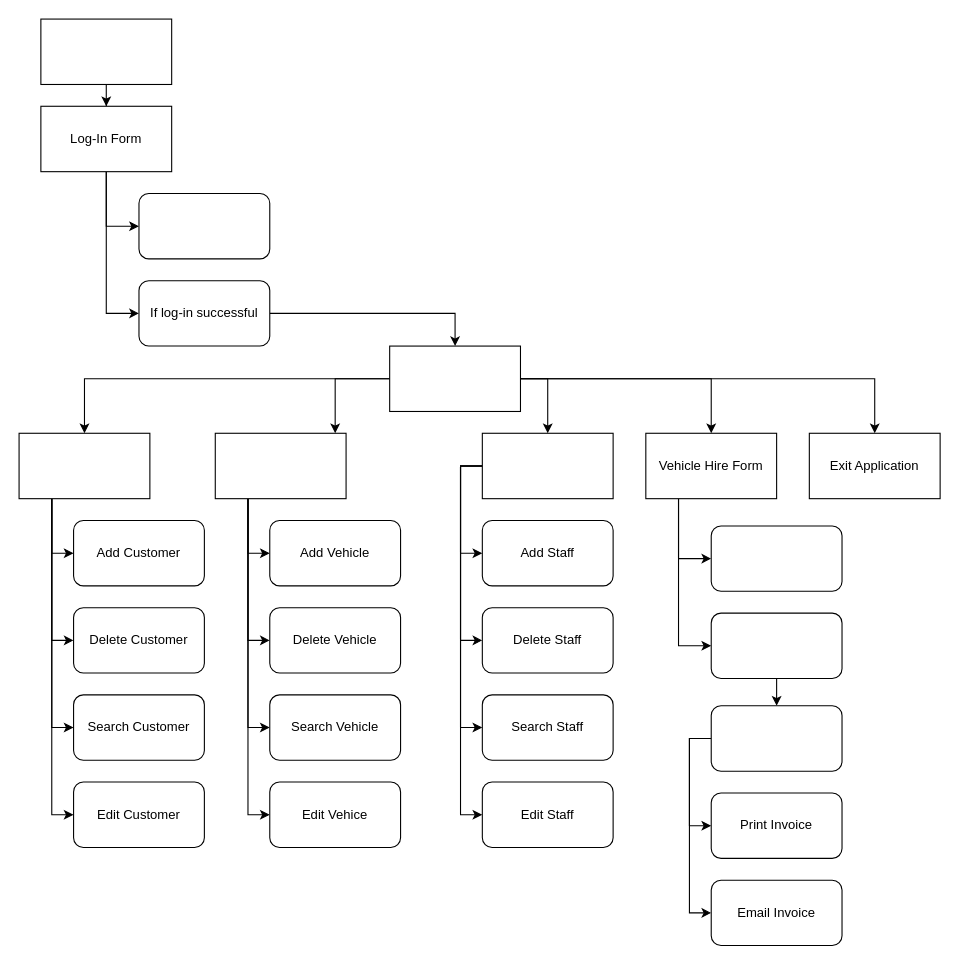
The diagram is 959 pixels wide and 965 high, and some of its shapes have lost their labels. Here are the shapes that lost their labels. From the top down, the centre of each, then its label:
At (106,51): "Vehicle Rental Project".
At (204,225): "Drop-down option to select if admin or staff".
At (454,378): "Main Menu".
At (84,465): "Customer Database Form".
At (280,465): "Vehicle Database Form".
At (547,465): "Staff Database Form".
At (776,558): "Calculate Total Amount".
At (776,645): "Generate Invoice".
At (776,738): "Invoice Form".
